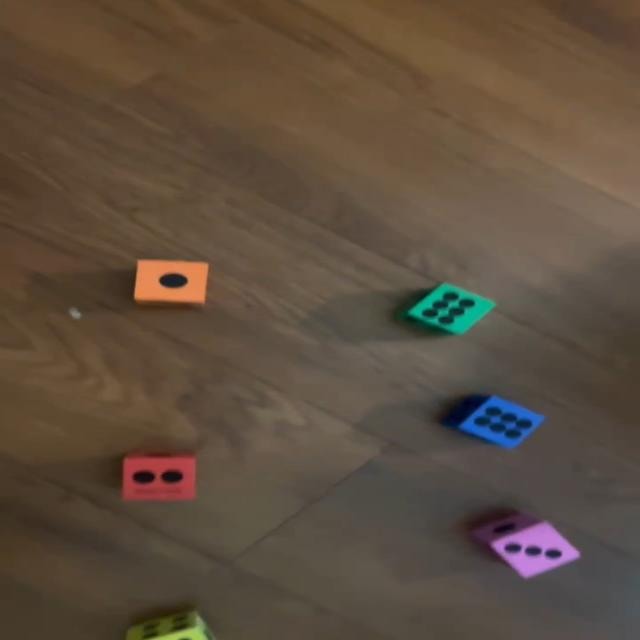blue_block: (441, 394, 546, 449)
red_block: (120, 450, 199, 502)
